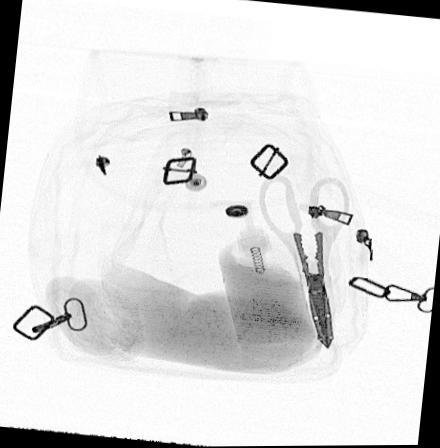Scissors: (258, 172, 352, 352)
